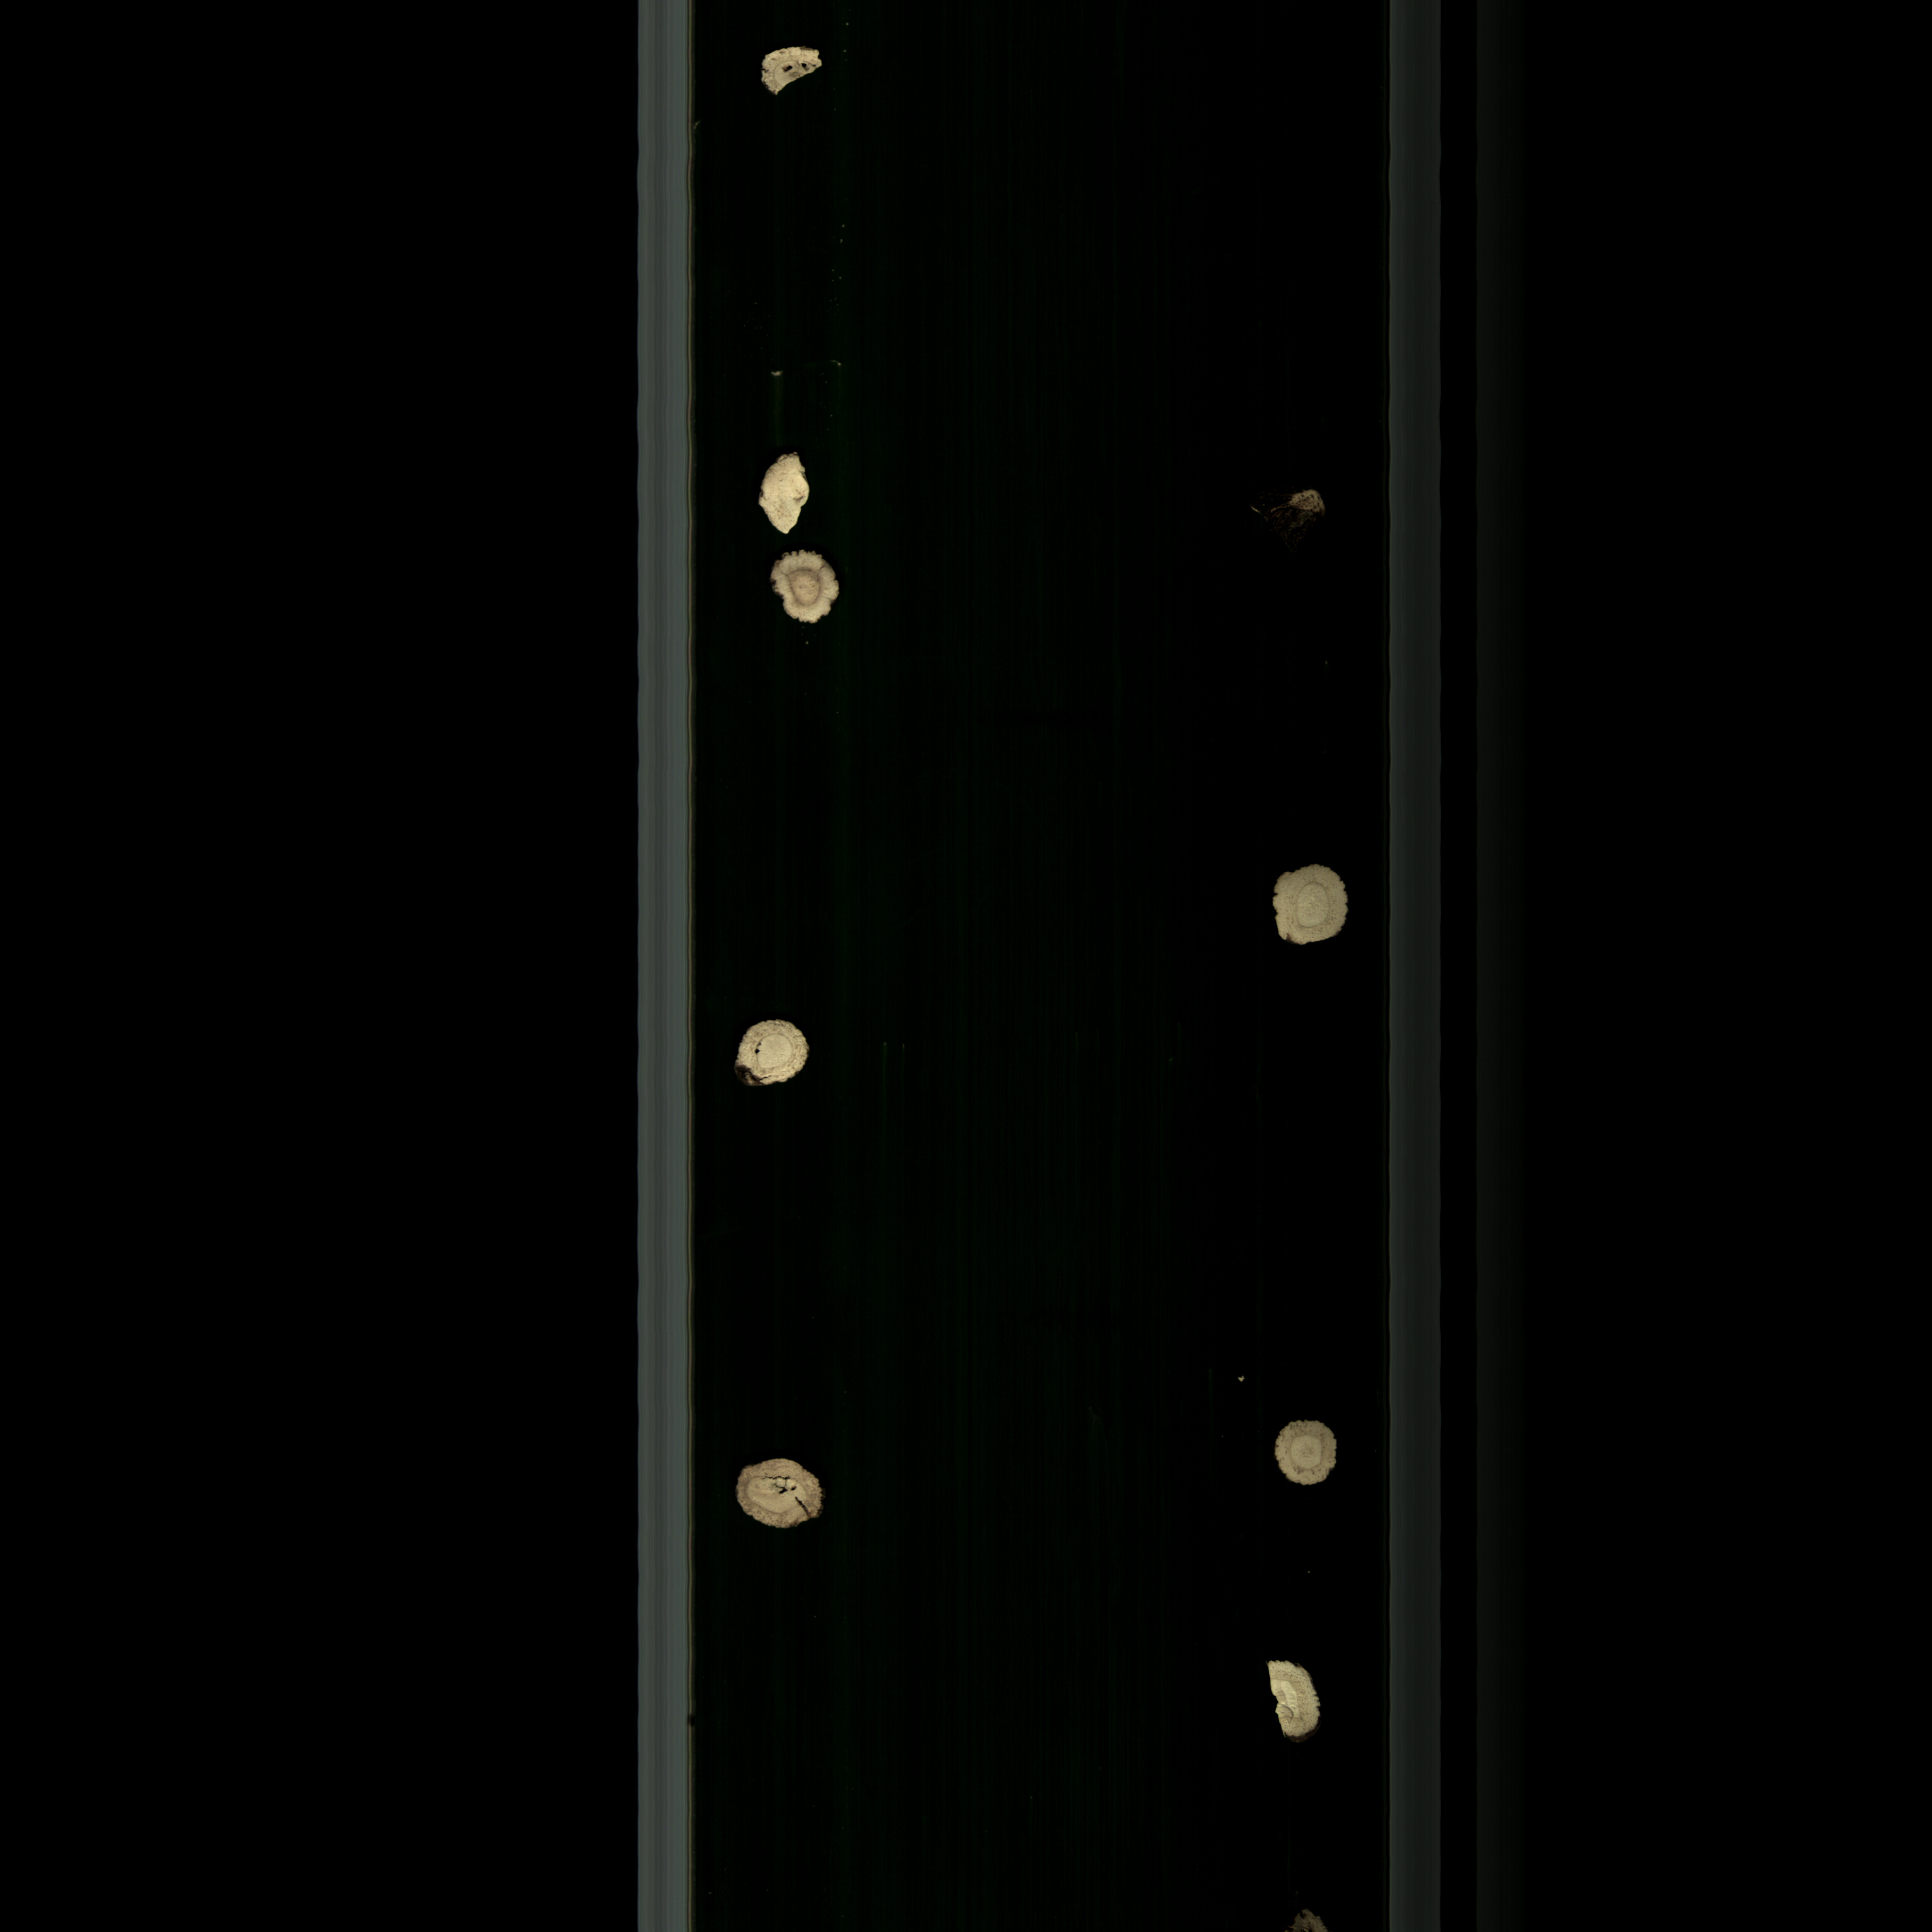bark: (1238, 481, 1345, 547)
debris: (1246, 1654, 1339, 1750), (750, 437, 821, 543)
distortion: (1270, 858, 1353, 955)
hole: (727, 1445, 846, 1530), (727, 1012, 824, 1102)
moldy: (750, 543, 856, 633), (761, 39, 826, 104)
